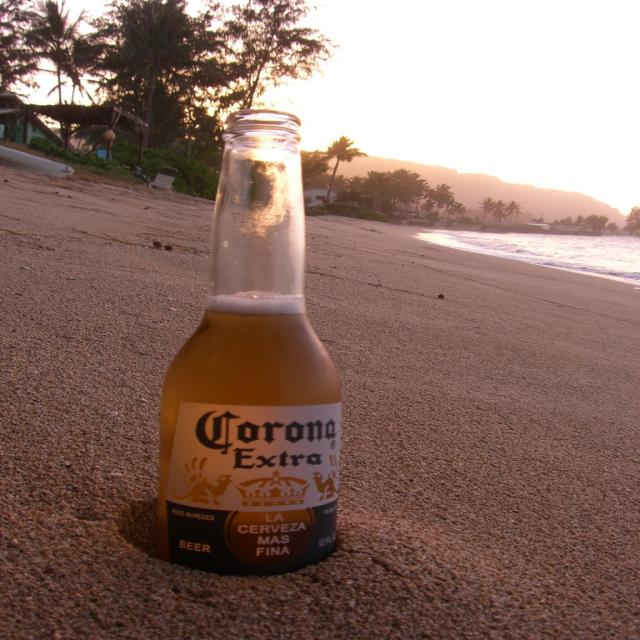corona: (166, 403, 343, 574)
